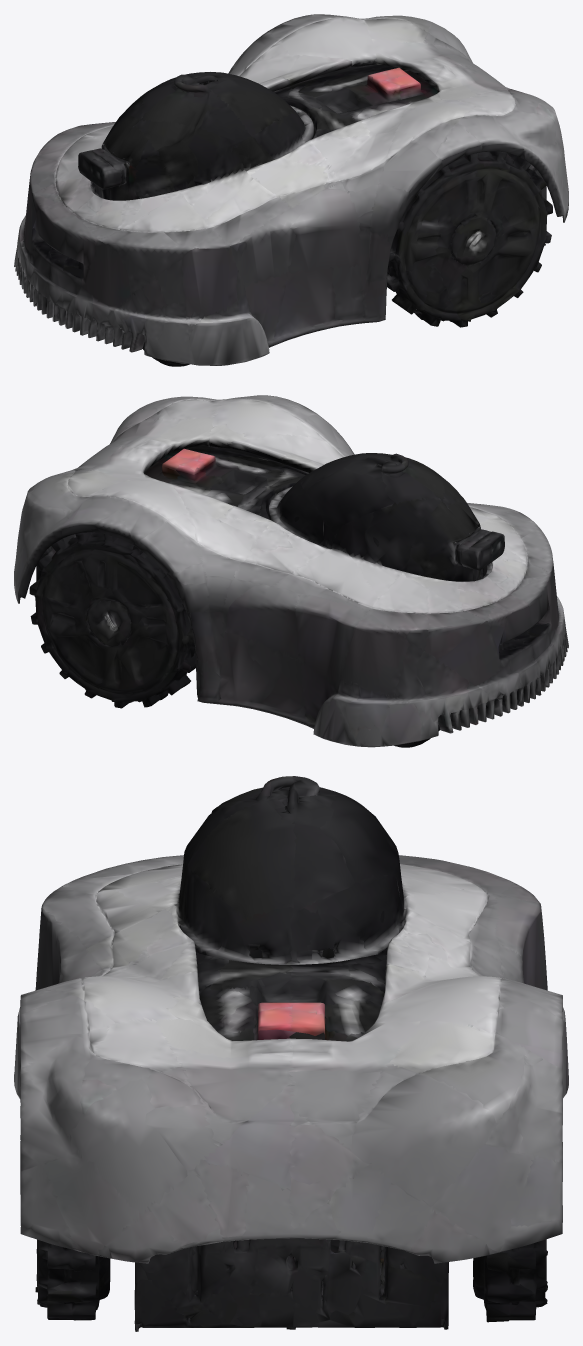
File: novabot.glb
3 renders of one model, top to bottom at view 1: azimuth 30°, elevation 25°; view 2: azimuth 150°, elevation 25°; view 3: azimuth 270°, elevation 25°, orthographic. The views are drawn at different scales.
Bounding box in the file's own units: 1.9 × 0.9125 × 1.24.
1 material, 1 textured.
